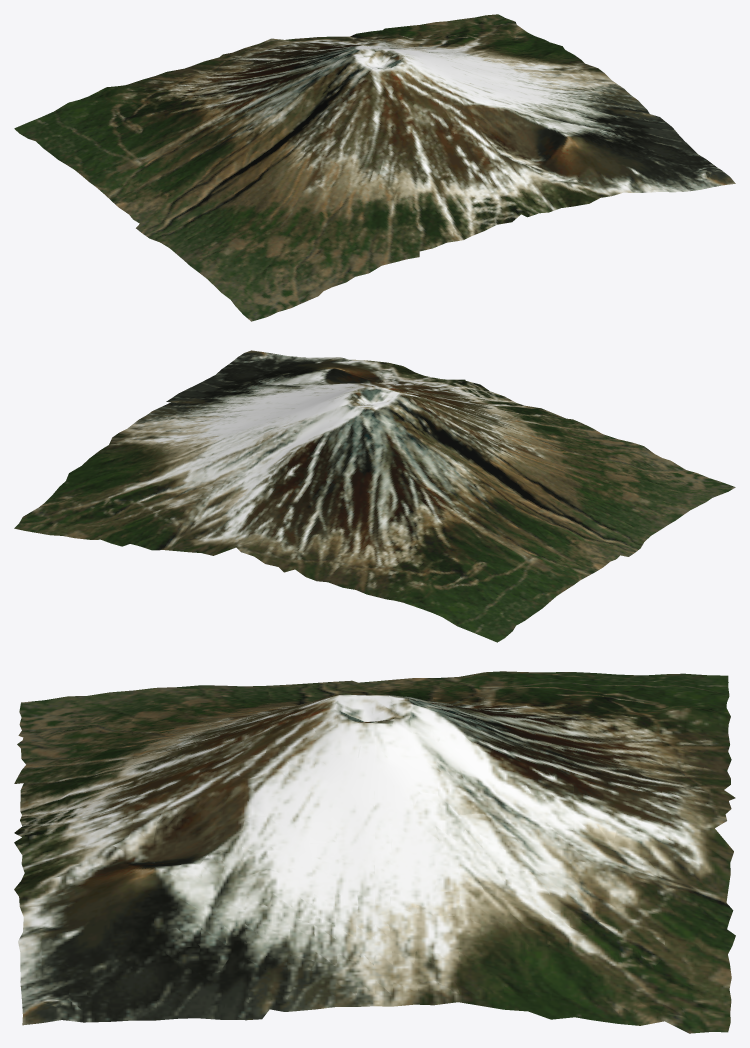
The model's file is fuji_diorama.glb.
3 renders of one model, top to bottom at view 1: azimuth 30°, elevation 25°; view 2: azimuth 150°, elevation 25°; view 3: azimuth 270°, elevation 25°, orthographic. The views are drawn at different scales.
Visible parts, largest first — view 1: mesh; view 2: mesh; view 3: mesh.
Boxes of the visible parts, x1,y1,x2,y2 form: mesh: (14, 14, 735, 321); mesh: (14, 350, 735, 642); mesh: (14, 671, 735, 1033).
Bounding box in the file's own units: 4.07 × 0.9197 × 3.47.
Materials: 1 (1 with a texture image).
